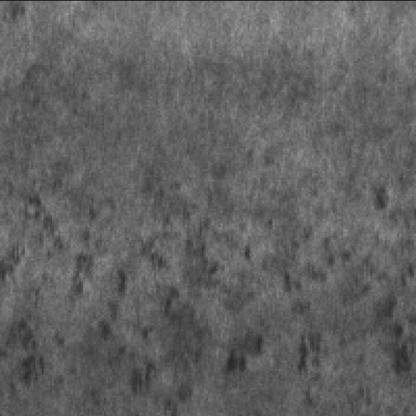rolled-in_scale: (4, 208, 275, 412), (256, 238, 416, 388)
